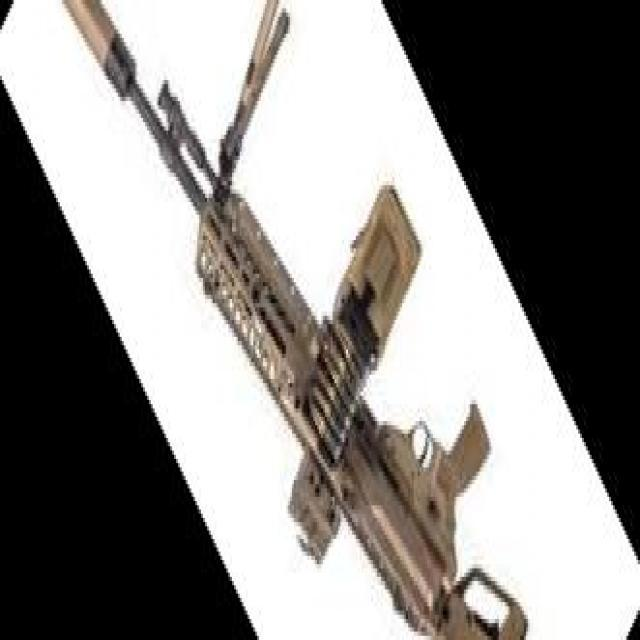weapon: (63, 0, 530, 640)
